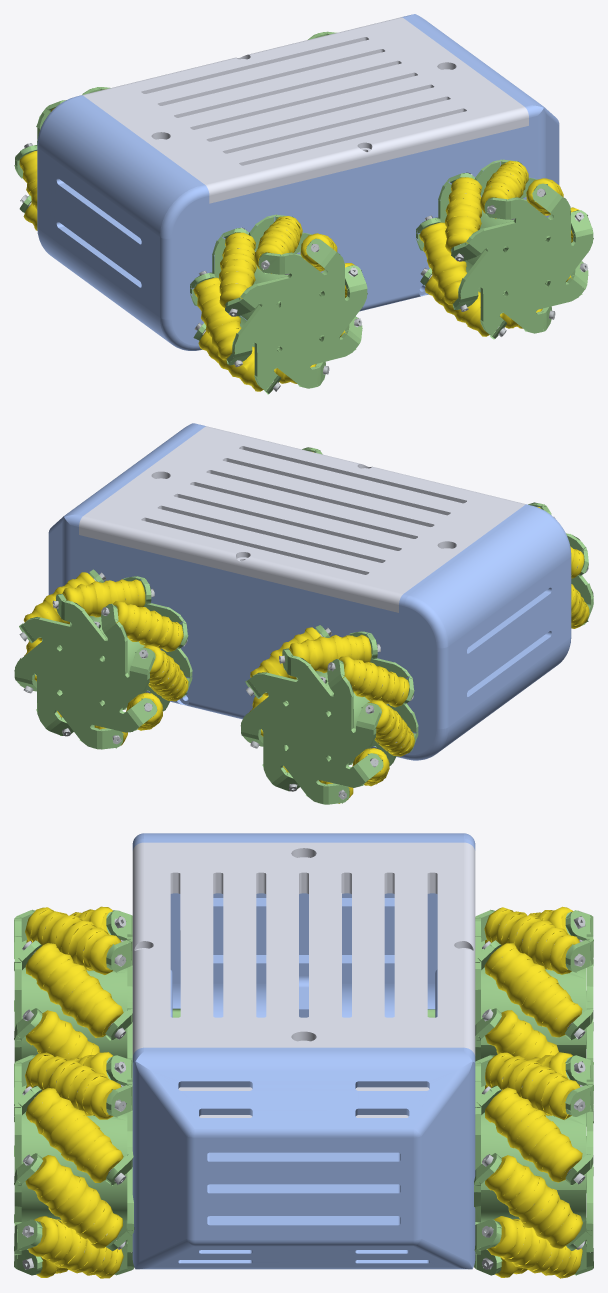
Rendered from autotant.glb.
3 views of the same model, one above another, from view 1: azimuth 30°, elevation 25°; view 2: azimuth 150°, elevation 25°; view 3: azimuth 270°, elevation 25° (orthographic). The views are drawn at different scales.
Visible parts, largest first — view 1: base_link, wheel_rf, wheel_rb, wheel_lb; view 2: base_link, wheel_lf, wheel_lb, wheel_rb; view 3: base_link, wheel_rf, wheel_lf, wheel_rb, wheel_lb.
Part boxes in pixels (x1=…): base_link: x1=37, y1=14, x2=559, y2=350; wheel_rf: x1=416, y1=159, x2=593, y2=339; wheel_rb: x1=190, y1=214, x2=367, y2=394; wheel_lb: x1=14, y1=87, x2=110, y2=230; base_link: x1=48, y1=423, x2=571, y2=760; wheel_lf: x1=14, y1=569, x2=192, y2=749; wheel_lb: x1=240, y1=625, x2=418, y2=804; wheel_rb: x1=528, y1=502, x2=593, y2=628; base_link: x1=132, y1=833, x2=475, y2=1269; wheel_rf: x1=14, y1=1052, x2=134, y2=1278; wheel_lf: x1=474, y1=1052, x2=593, y2=1278; wheel_rb: x1=14, y1=906, x2=180, y2=1121; wheel_lb: x1=427, y1=906, x2=593, y2=1126.
Size of the model in its own units: 0.222 by 0.0962 by 0.2031.
